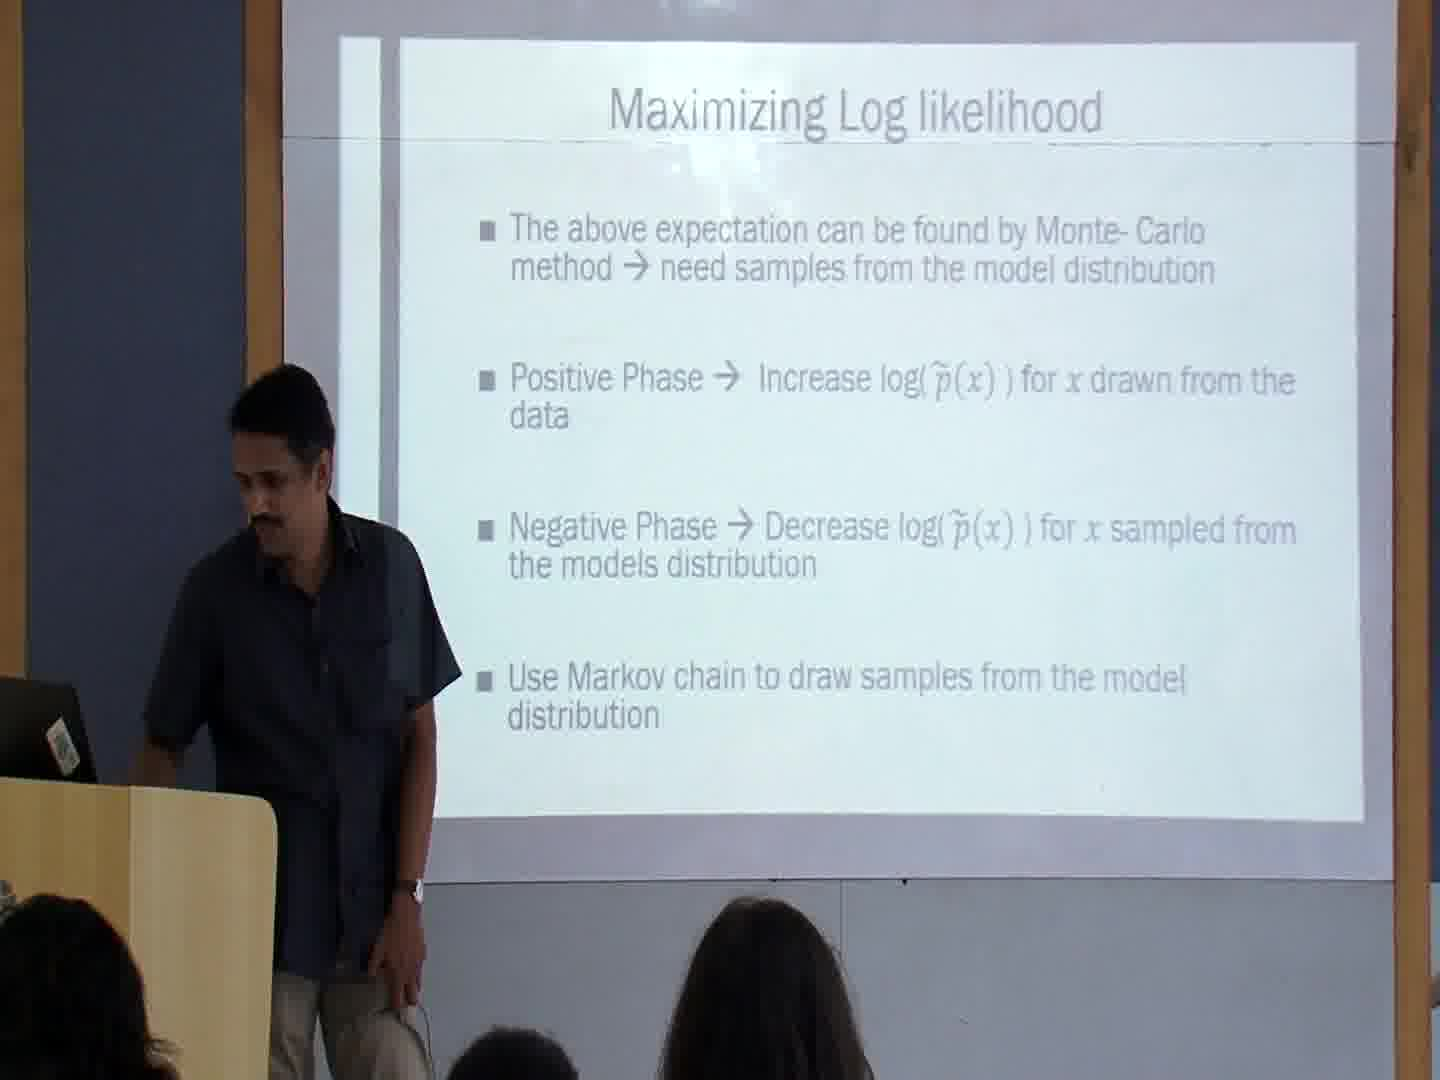slide: (339, 37, 1359, 819)
